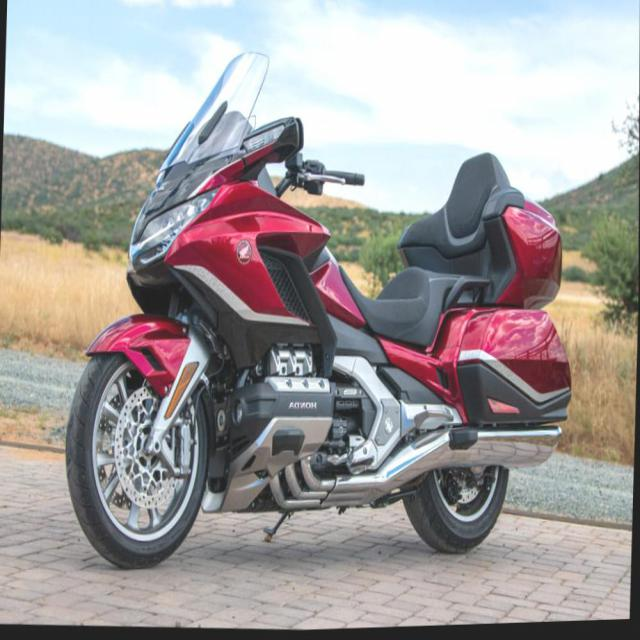Gold Wing: (58, 35, 582, 597)
